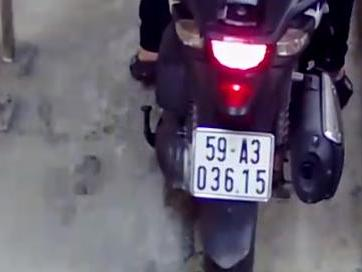num_plate: (191, 129, 275, 201)
